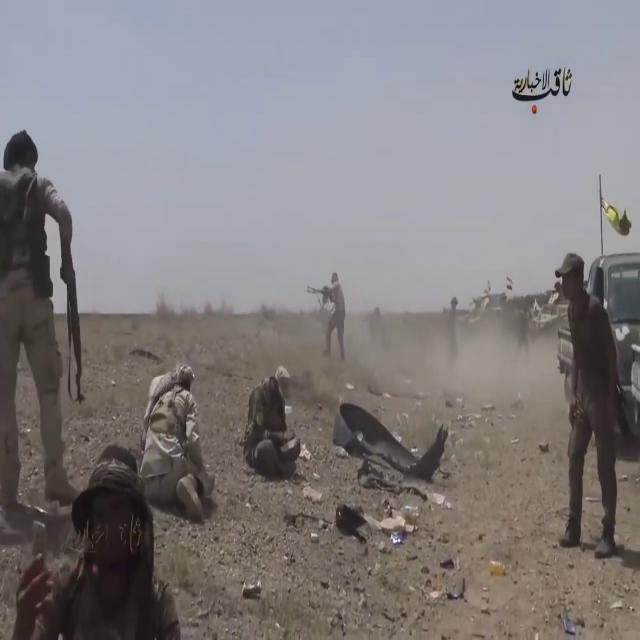long weapon: (49, 219, 99, 415)
